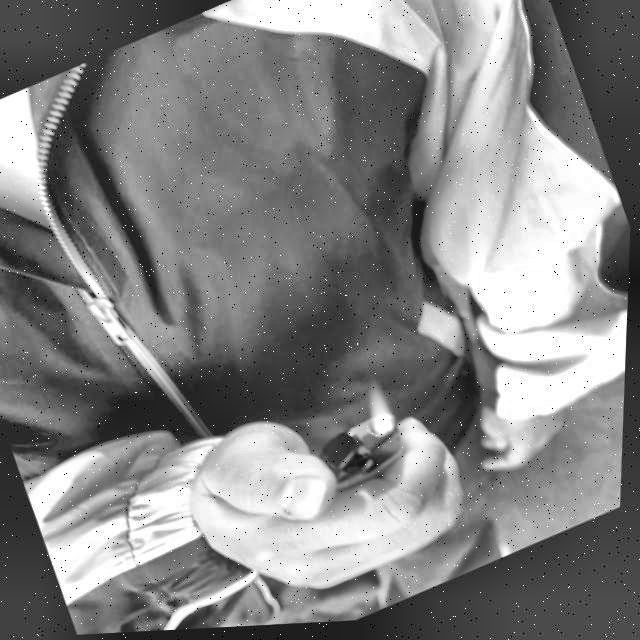Fire: (362, 384, 399, 429)
